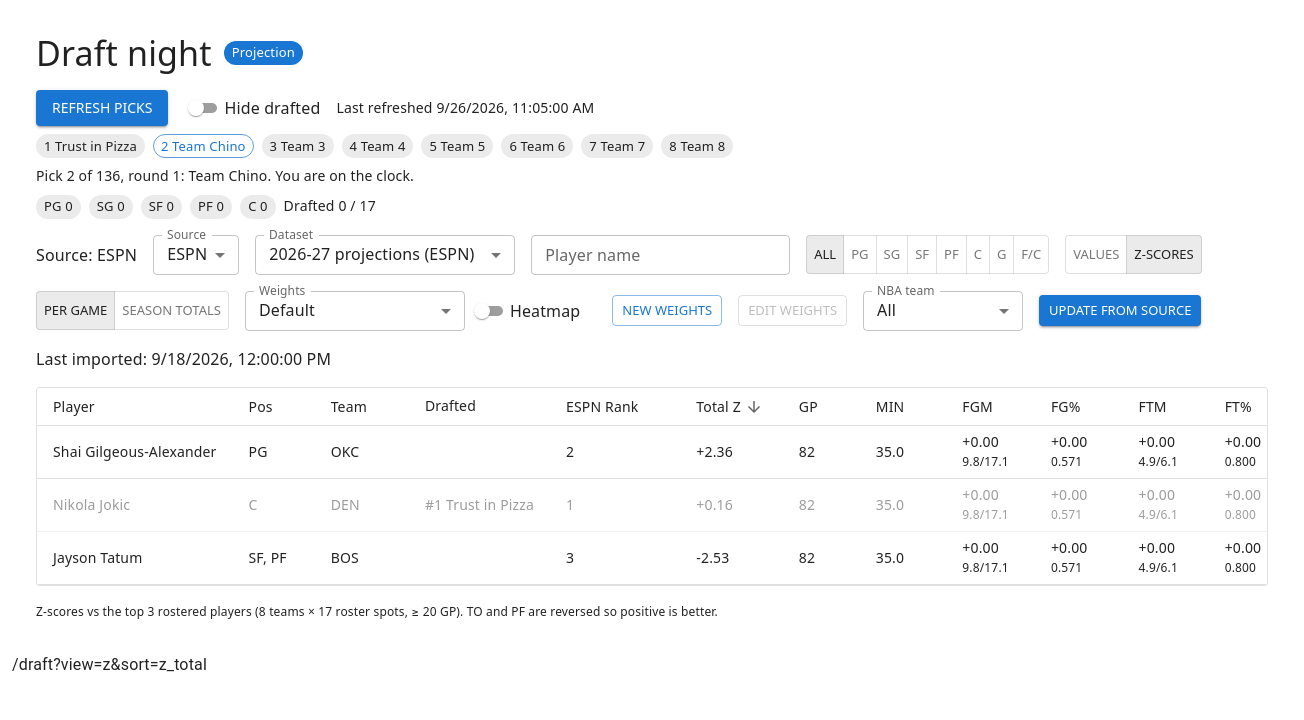
it: Hide drafted removes drafted rows and restores them when toggled off
Expected: the text "Nikola Jokic" is shown, top-left (37, 479), bottom-right (232, 532)
Click the switch labelled "Hide drafted": {"x": 252, "y": 108} top-left (184, 96), bottom-right (320, 120)
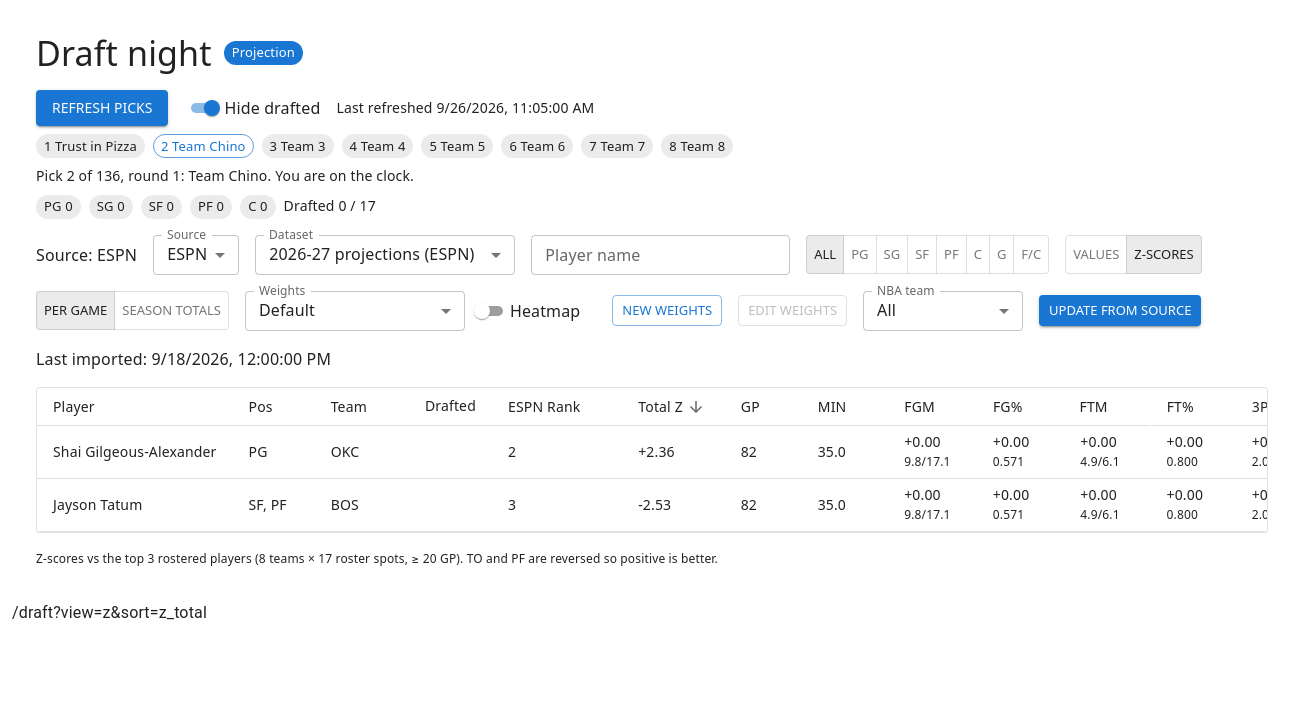
Expected: the text "Jayson Tatum" is shown, top-left (37, 479), bottom-right (232, 532)
Expected: the text "Nikola Jokic" is gone
Click the switch labelled "Hide drafted": {"x": 252, "y": 108} top-left (184, 96), bottom-right (320, 120)
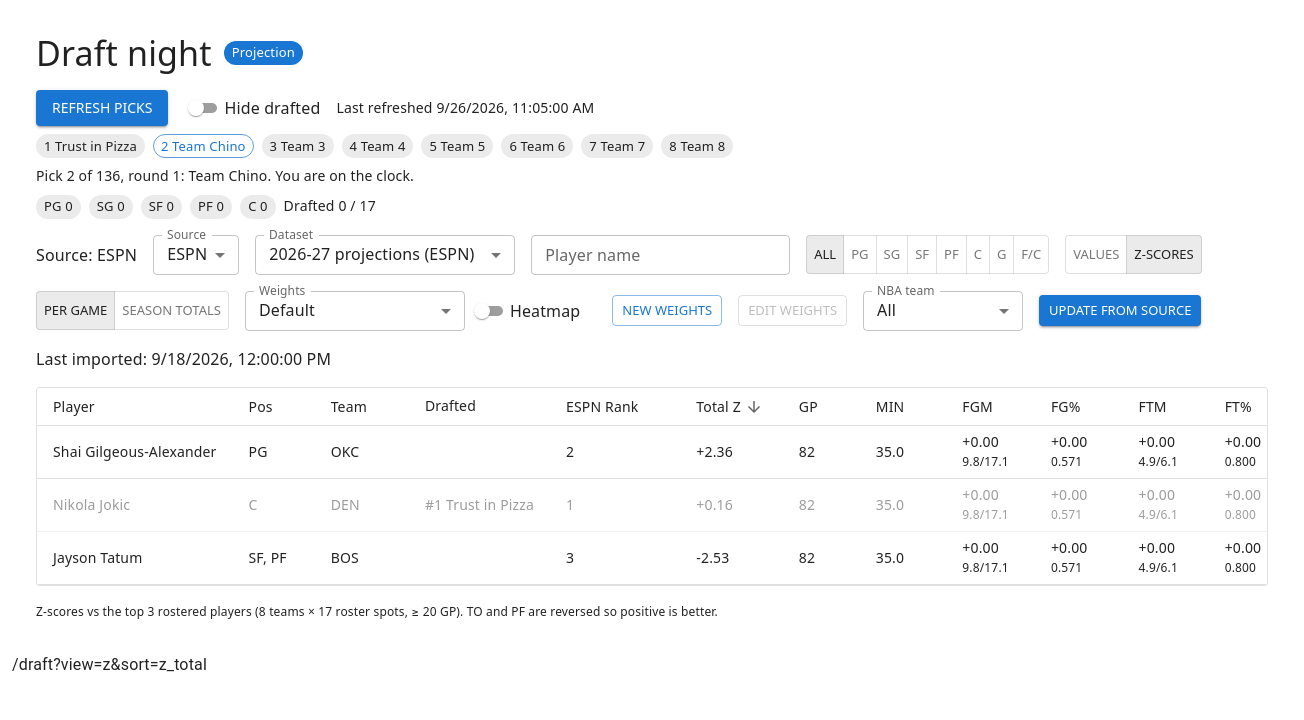
Expected: the text "Nikola Jokic" is shown, top-left (37, 479), bottom-right (232, 532)
